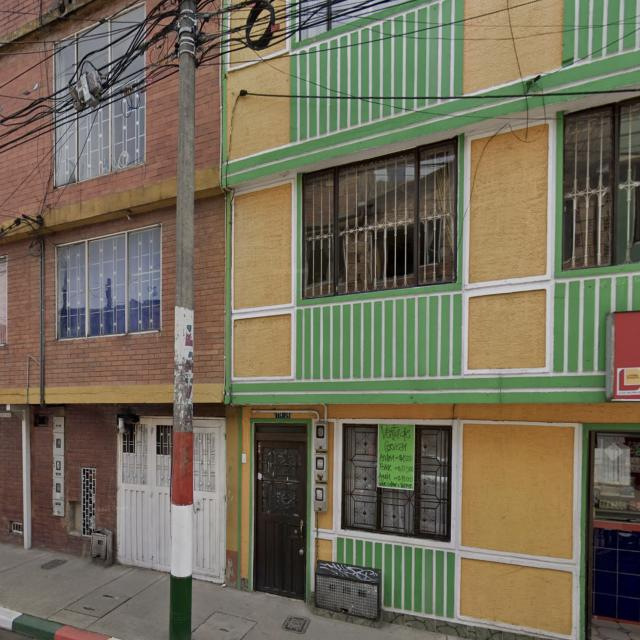Casa: (221, 0, 640, 640), (0, 0, 179, 571), (191, 66, 237, 582)
Poste: (169, 0, 195, 640)
